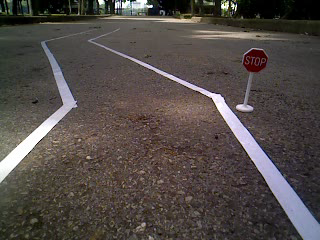Stop: (242, 46, 270, 75)
